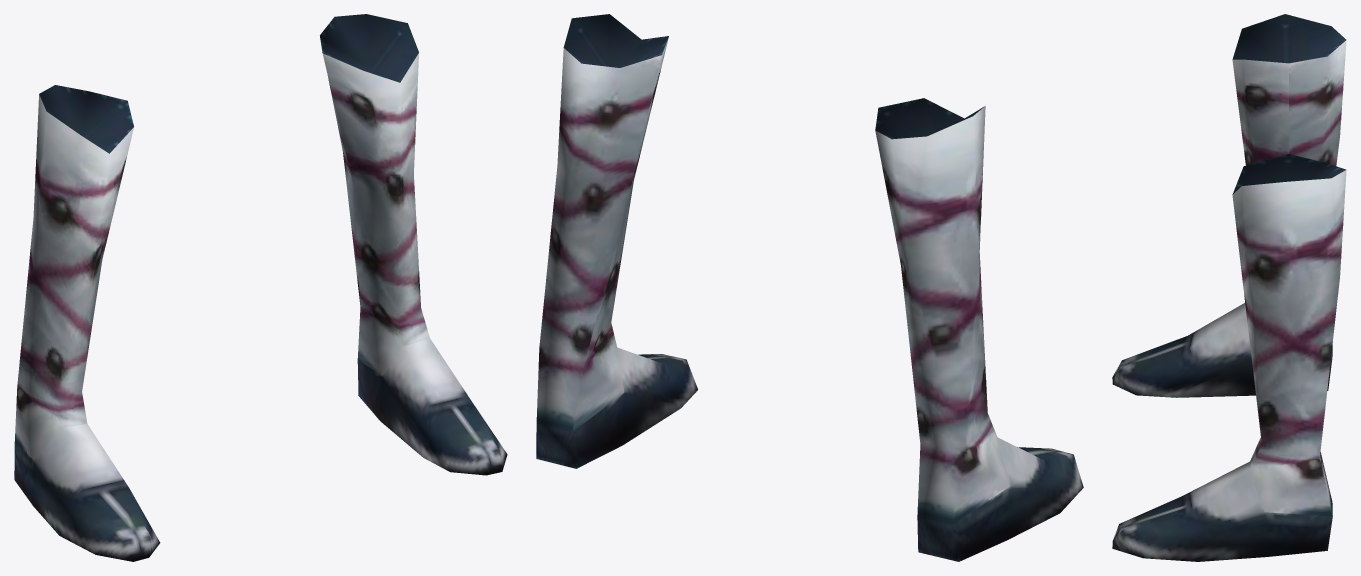
Rendered from clothes_03_fa.glb.
3 views of the same model, side by side, from view 1: azimuth 30°, elevation 25°; view 2: azimuth 150°, elevation 25°; view 3: azimuth 270°, elevation 25° (orthographic). The views are drawn at different scales.
Parts seen in each view (by area): view 1: clothes_03_fa; view 2: clothes_03_fa; view 3: clothes_03_fa.
Boxes of the visible parts, left/top/right/bottom form: clothes_03_fa: left=14, top=14, right=507, bottom=561; clothes_03_fa: left=536, top=14, right=1083, bottom=561; clothes_03_fa: left=1112, top=14, right=1346, bottom=561.
Bounding box in the file's own units: 0.5209 × 0.4469 × 0.2598.
Materials: 1 (1 with a texture image).
